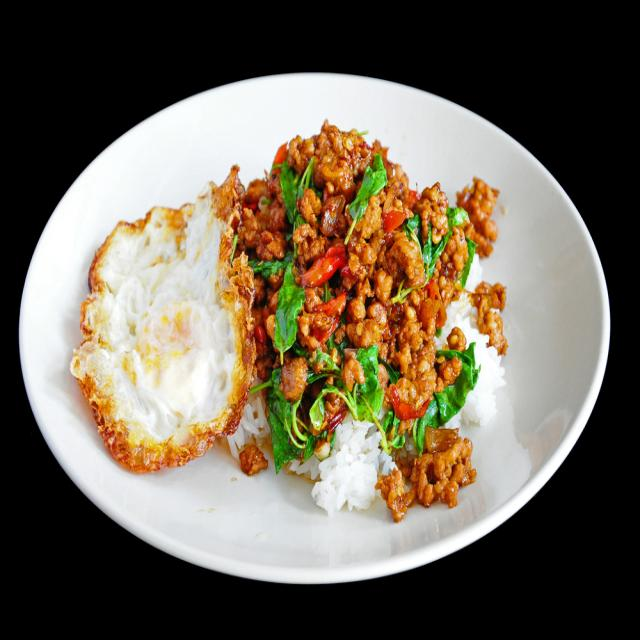Carbohydrate: (251, 229, 505, 514)
Kaow-Padkrapao: (42, 83, 552, 559)
Protein: (248, 123, 506, 414), (72, 166, 256, 476)
Vegetable: (270, 250, 476, 470)
